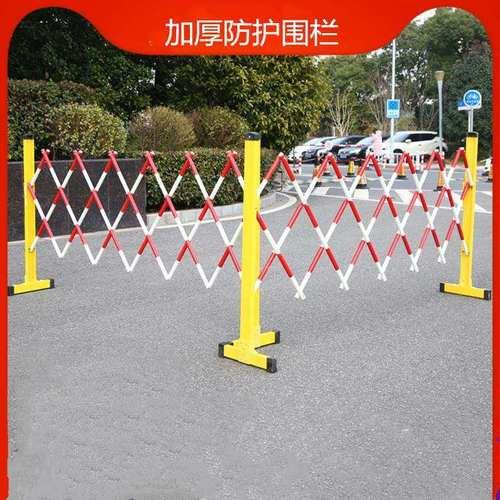sign: (13, 129, 486, 362)
